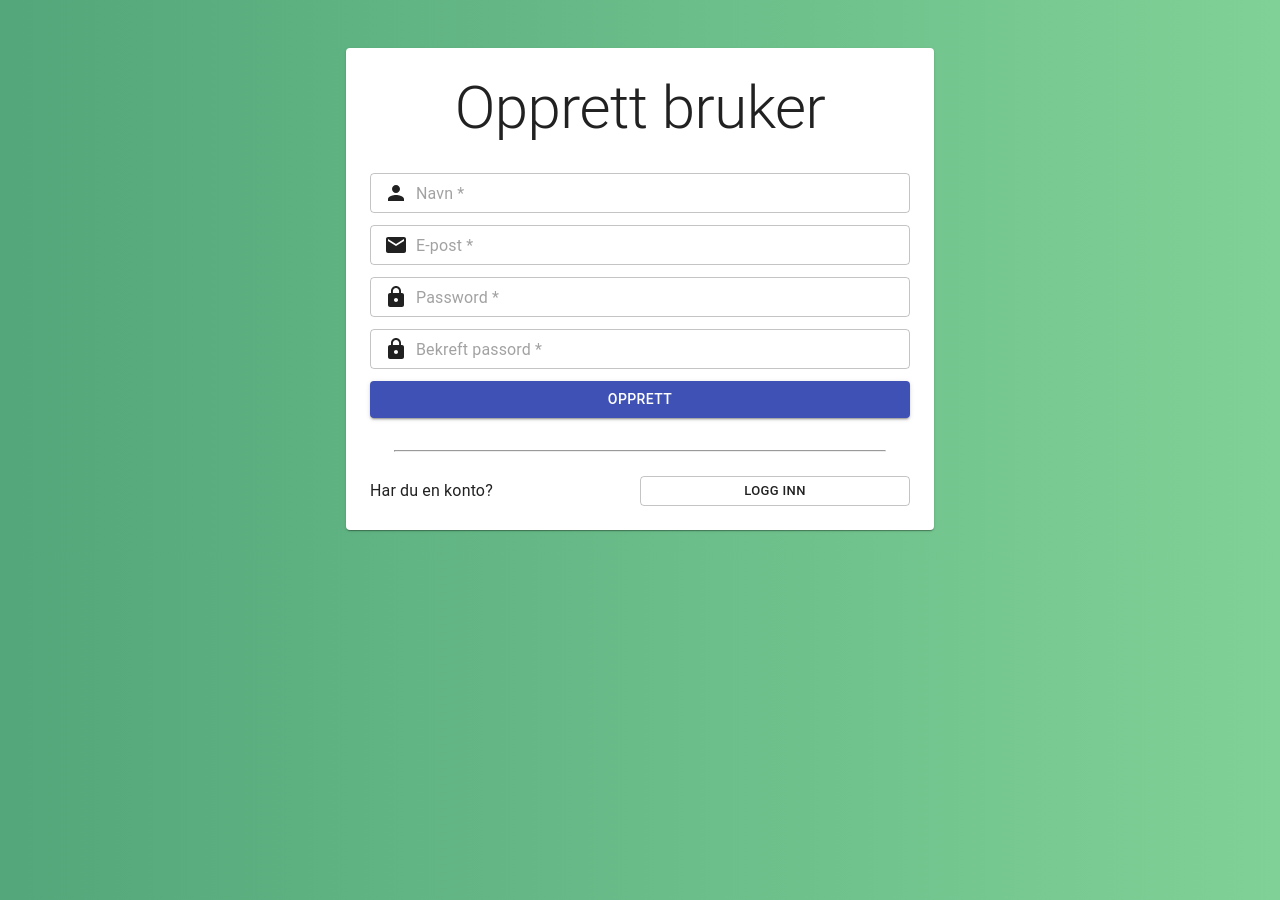
Test case: Signup component › should show a general error message
Type "Pickle" into the field with placeholder "Navn *" at (663, 193), box [416,173,910,213]
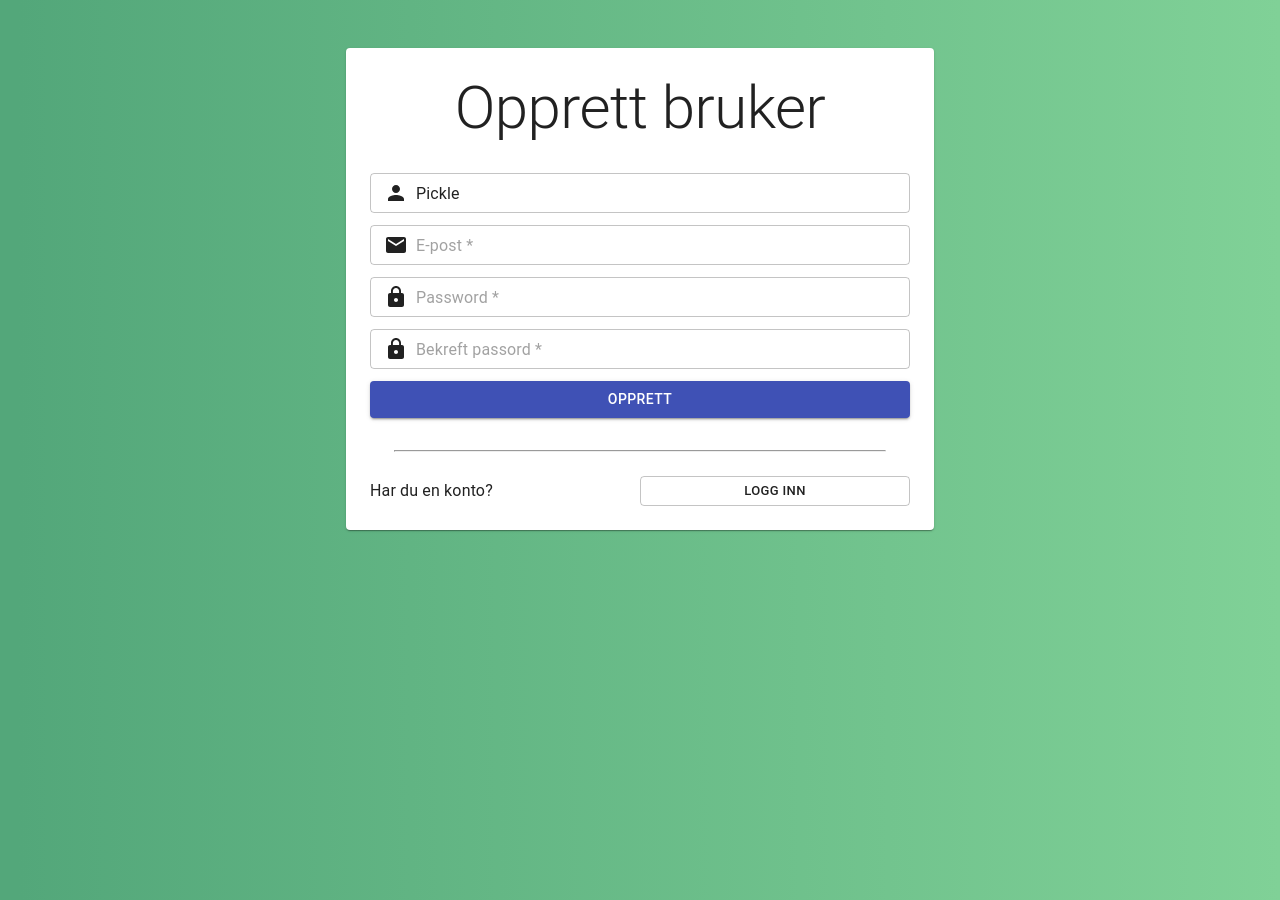
Type "pickle@lim.no" into the field with placeholder "E-post *" at (663, 245), box [416,225,910,265]
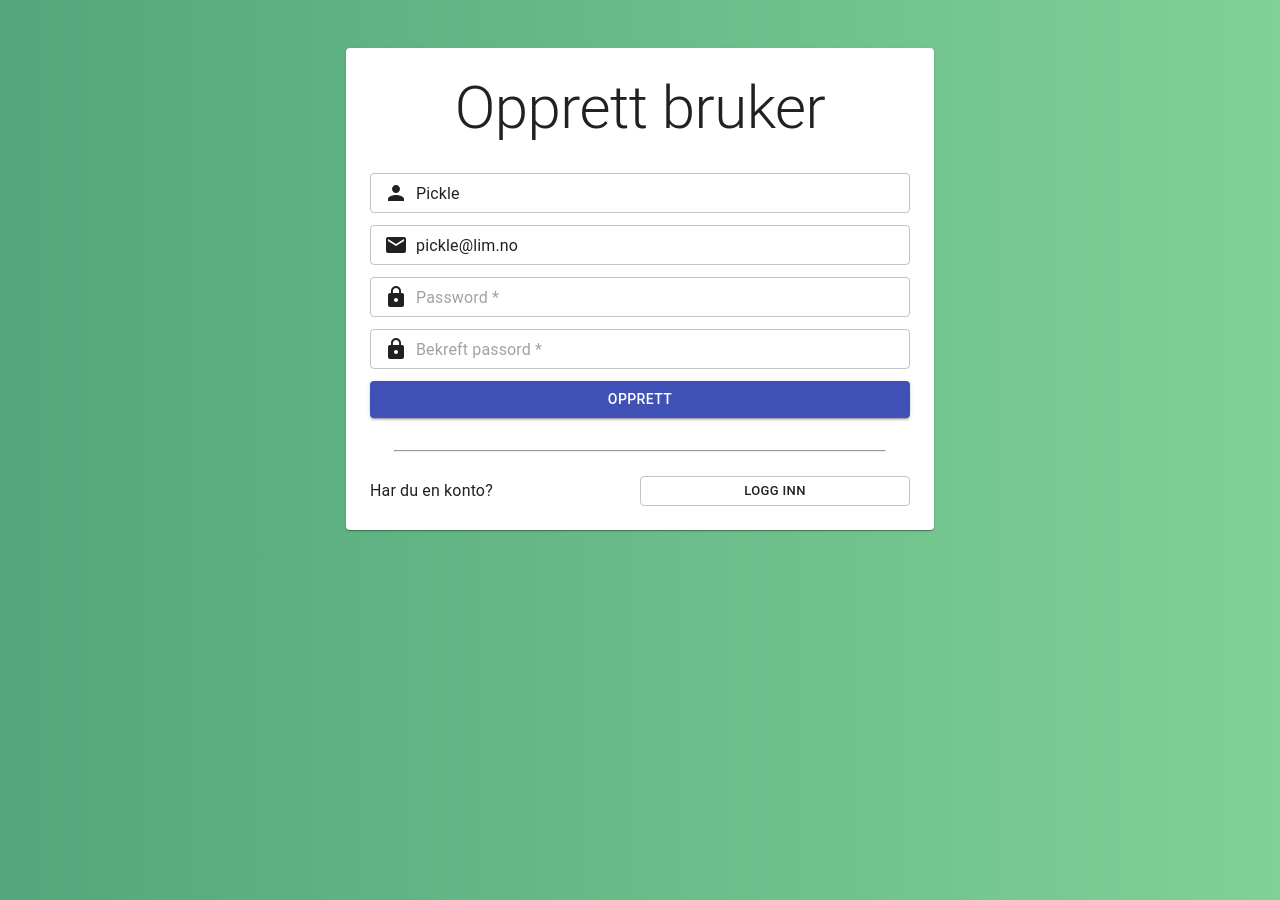
Type "Sylteagur1" into the password field with placeholder "Password *" at (663, 297), box [416,277,910,317]
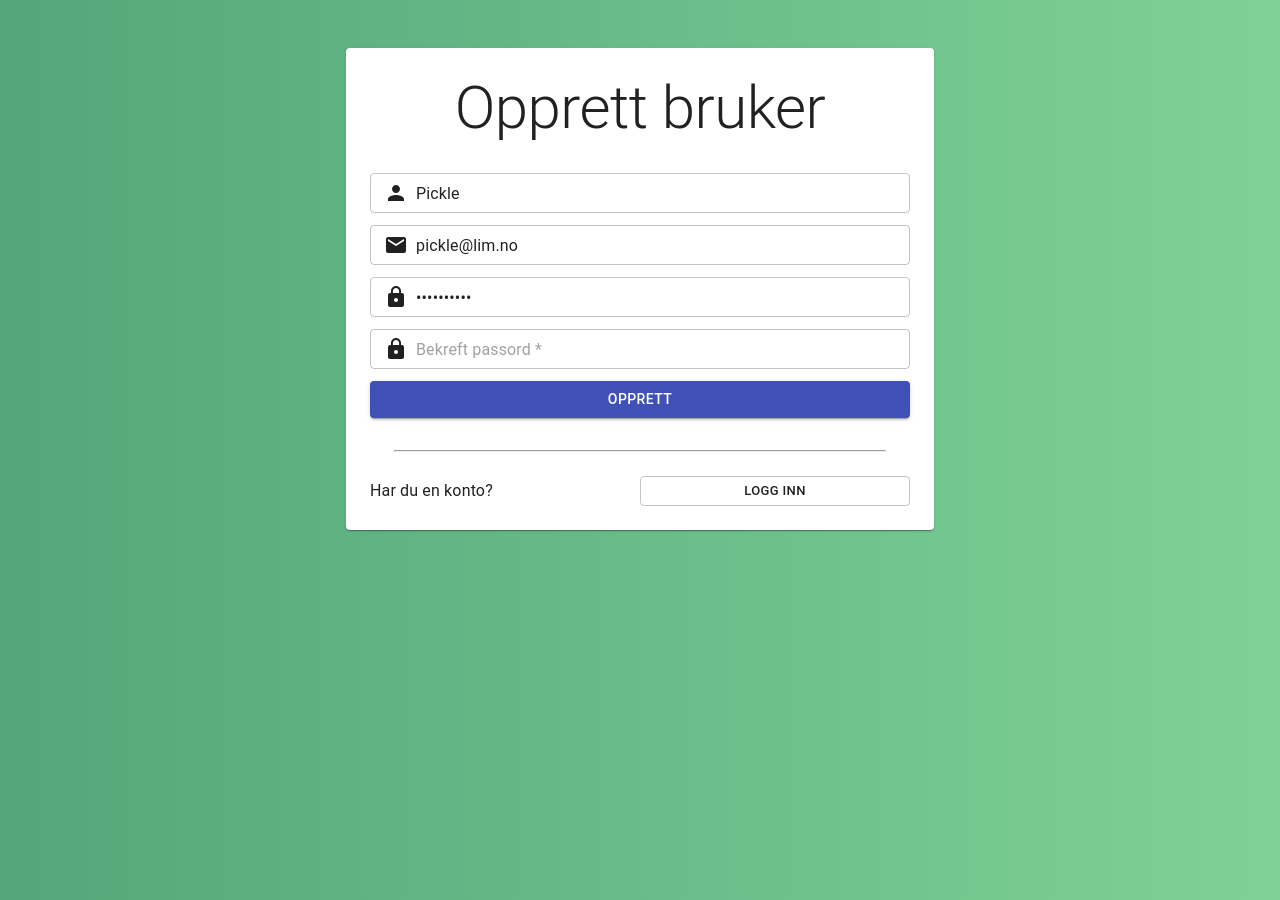
Type "Sylteagur1" into the password field with placeholder "Bekreft passord *" at (663, 349), box [416,329,910,369]
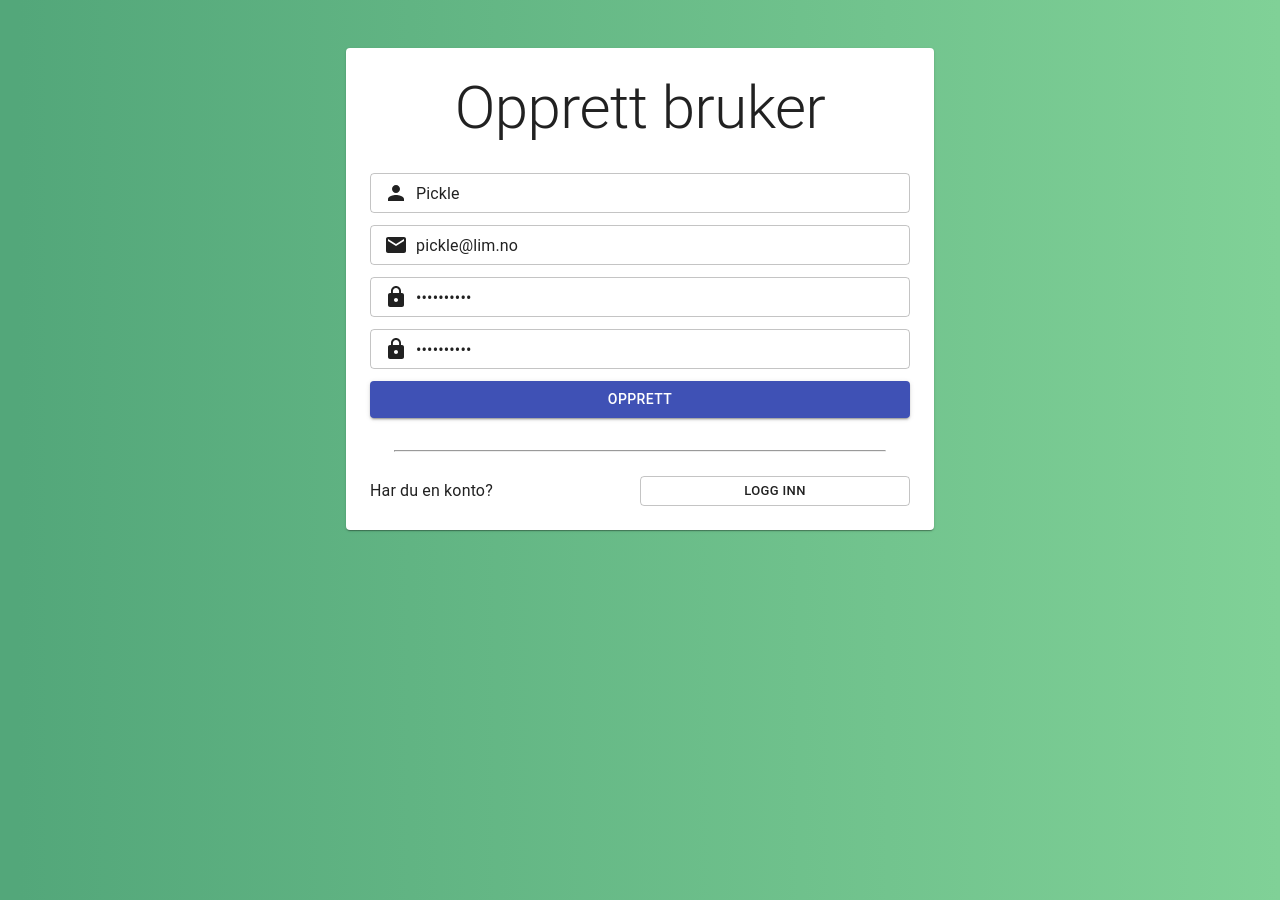
Click the button with test id "signUpButton" at (640, 399), box [370,381,910,418]
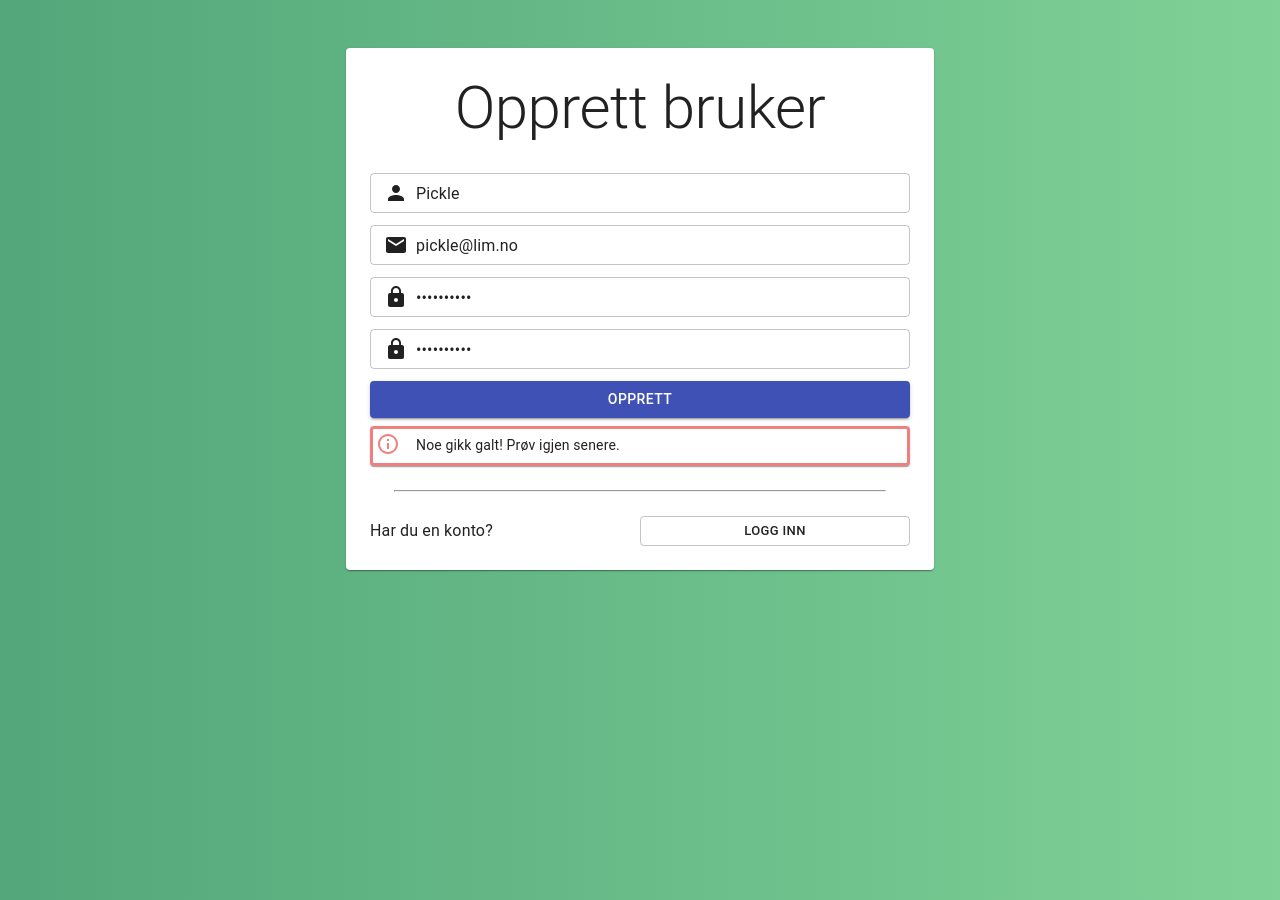
Expected: the text "Noe gikk galt! Prøv igjen senere." is shown, [416,438,620,454]
